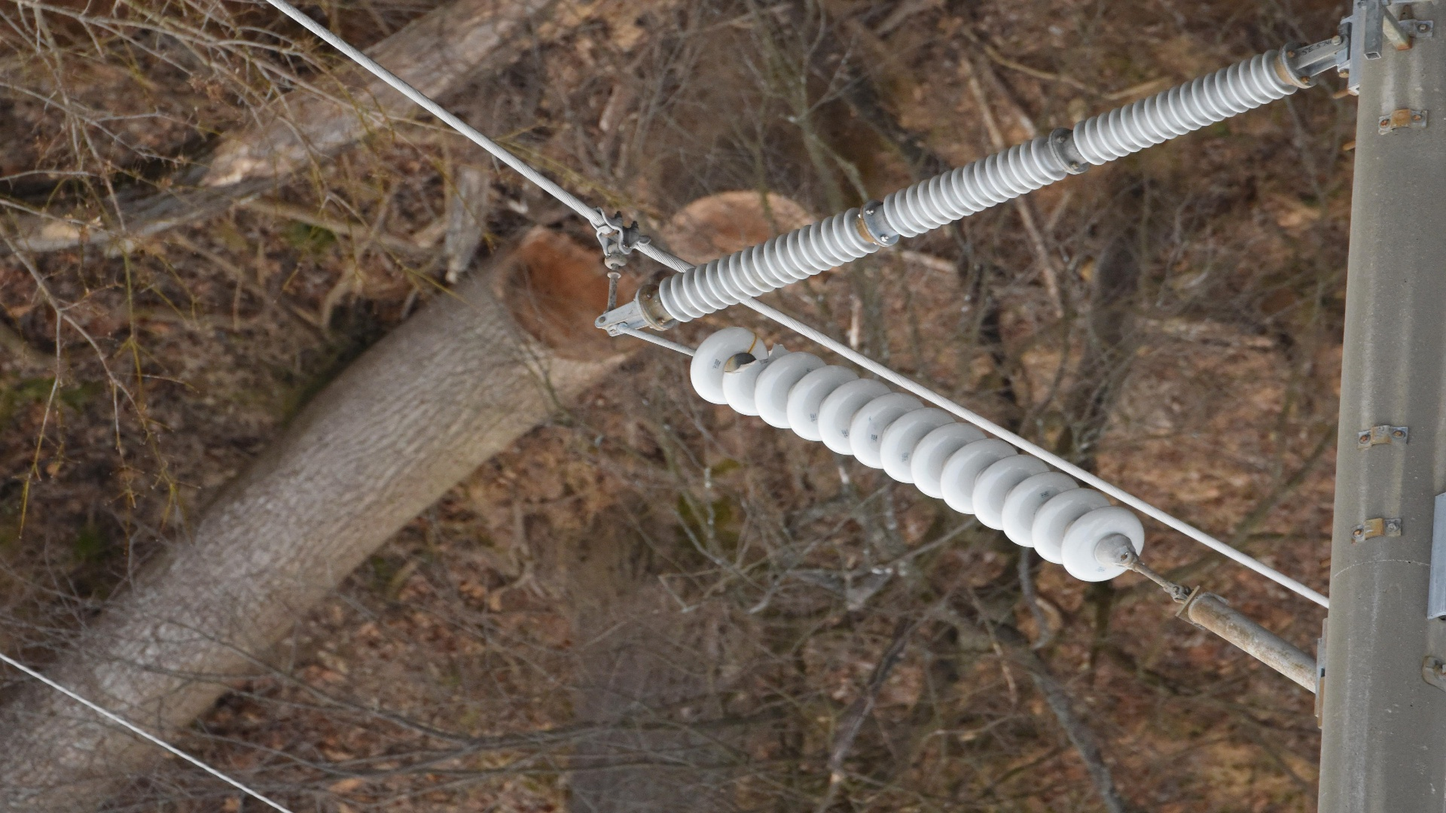insulator: (684, 324, 1149, 586), (1071, 45, 1299, 169), (655, 202, 880, 327), (878, 127, 1069, 241)
insulator_breakage: (721, 340, 792, 379)
